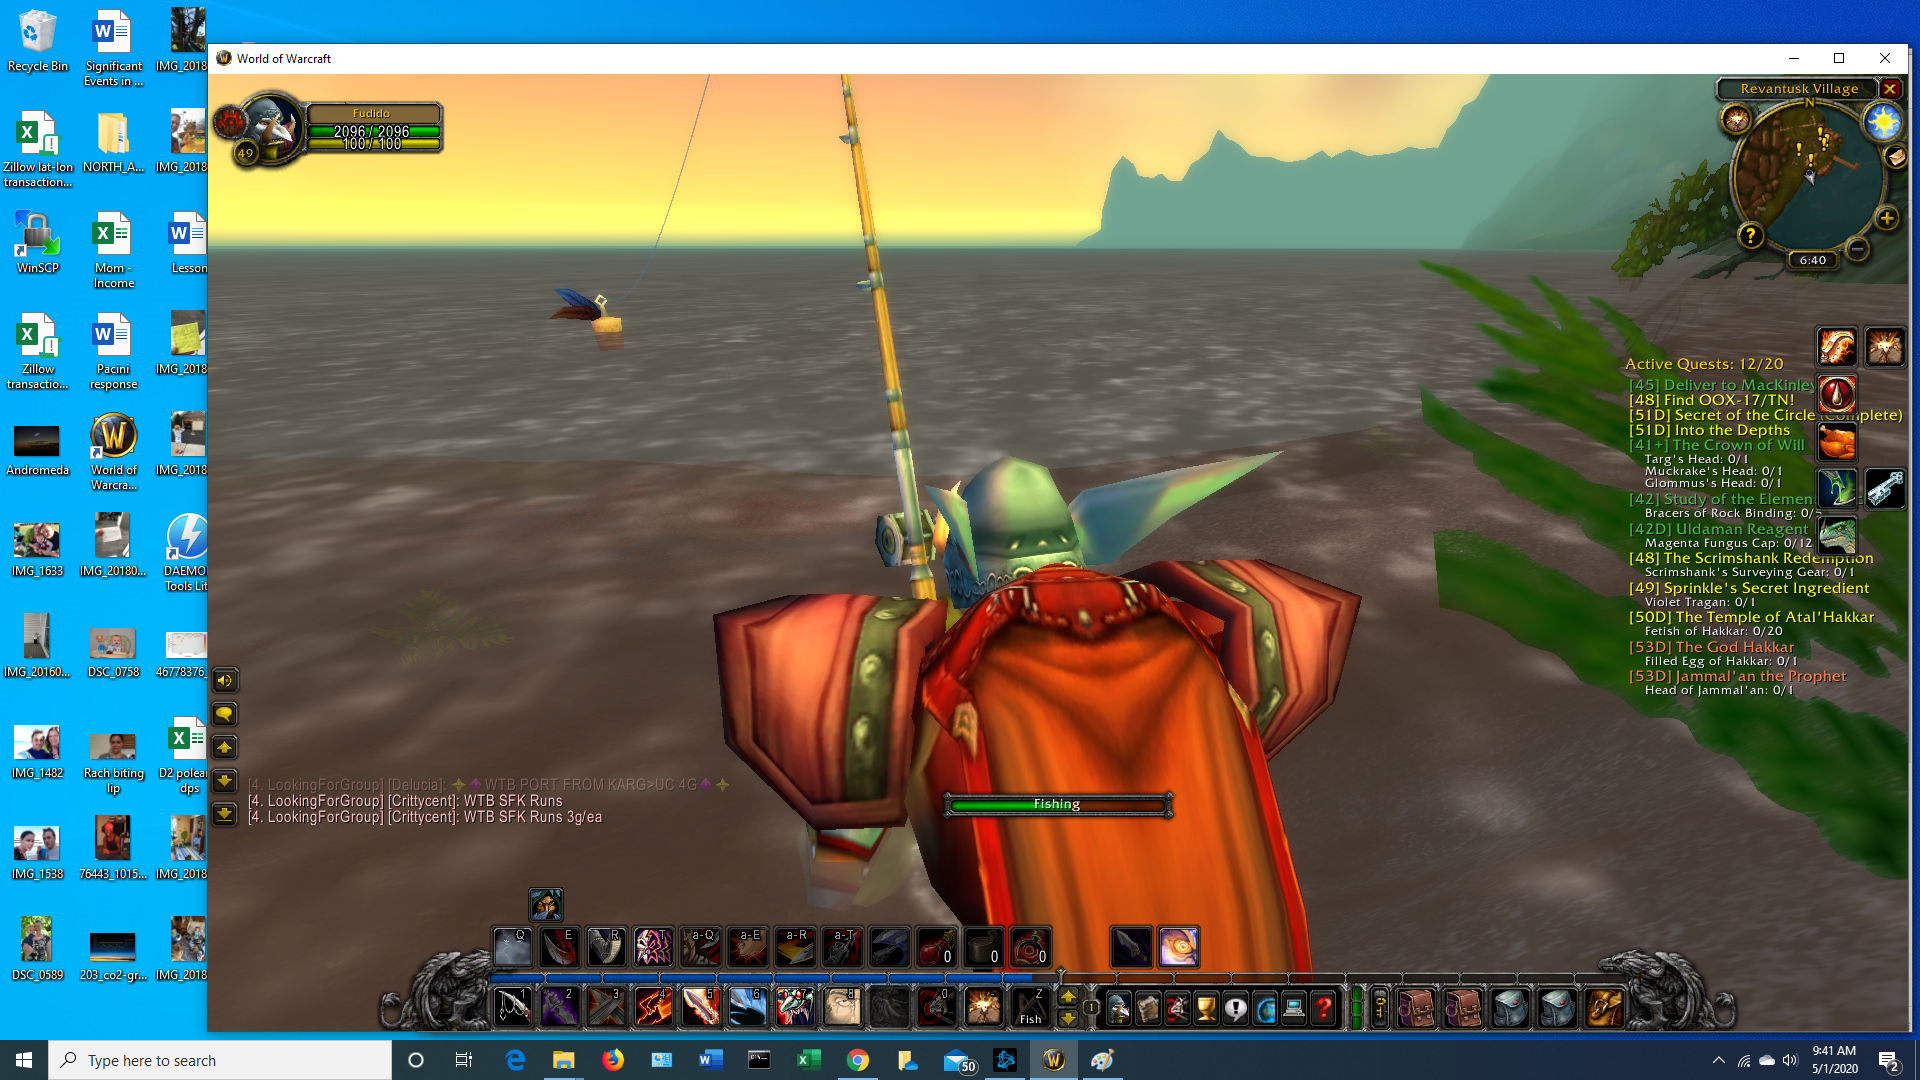bobble: (549, 278, 633, 360)
